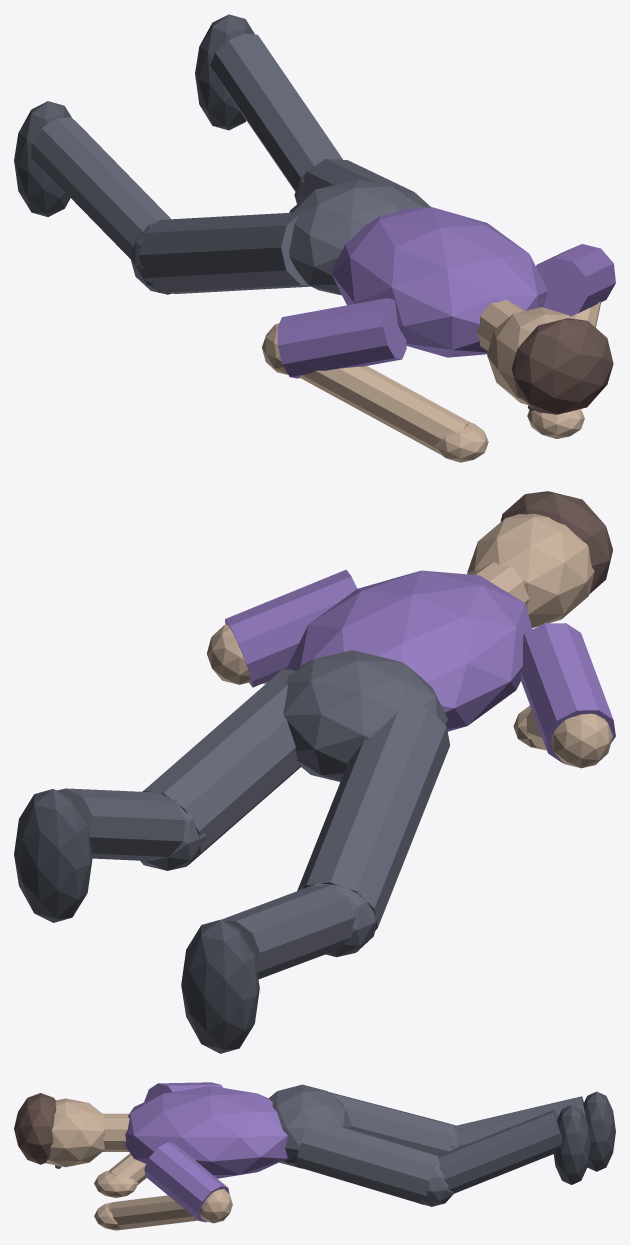
The picture shows the model from 3 angles, top to bottom: view 1: azimuth 30°, elevation 25°; view 2: azimuth 150°, elevation 25°; view 3: azimuth 270°, elevation 25°; orthographic projection. The views are drawn at different scales.
Parts seen in each view (by area): view 1: world; view 2: world; view 3: world.
Part boxes in pixels (x1,y1,x2,y2): world: (14,14,615,462); world: (14,491,615,1053); world: (14,1082,615,1230).
Size of the model in its own units: 0.93 by 0.4638 by 2.04.
